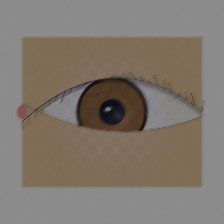pinguecula_lesion: (27, 103, 57, 127)
